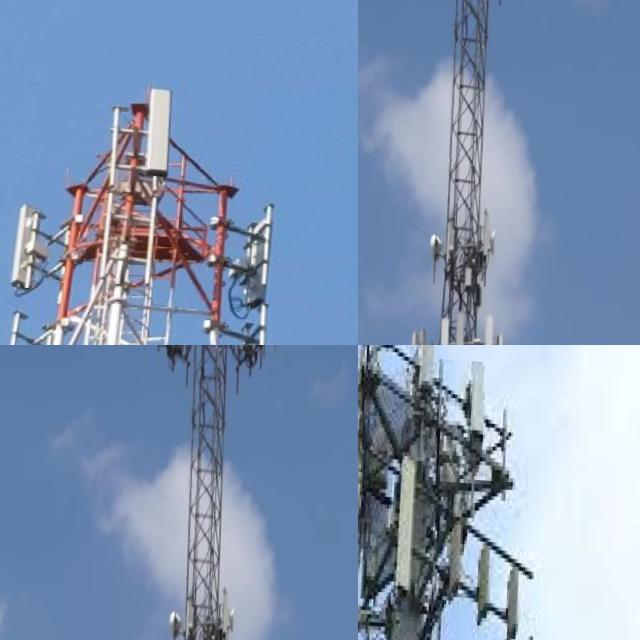GSM Antenna: (393, 444, 425, 593), (143, 80, 181, 176), (12, 195, 48, 292), (497, 555, 525, 640), (466, 348, 492, 428), (473, 541, 496, 622), (482, 198, 499, 260), (418, 345, 439, 387), (457, 304, 475, 345), (442, 311, 459, 345), (223, 592, 234, 640), (488, 312, 502, 345), (414, 328, 427, 345), (500, 328, 511, 345)
Microwave Antenna: (169, 601, 190, 640), (433, 224, 449, 262), (493, 225, 506, 257), (231, 603, 242, 633)
